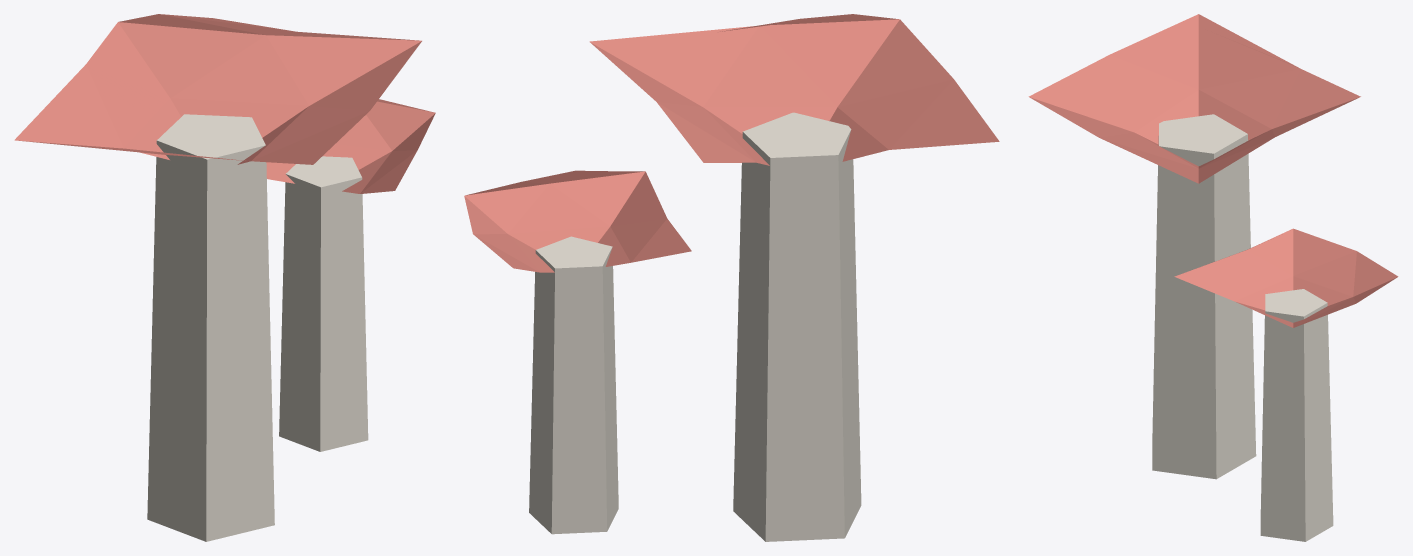
The model's file is mushroom_v20.glb.
The picture shows the model from 3 angles, left to right: view 1: azimuth 30°, elevation 25°; view 2: azimuth 150°, elevation 25°; view 3: azimuth 270°, elevation 25°; orthographic projection. The views are drawn at different scales.
Parts seen in each view (by area): view 1: lod0; view 2: lod0; view 3: lod0.
Boxes of the visible parts, box(x1,y1,x2,y2) form: lod0: box(14, 14, 435, 541); lod0: box(464, 14, 999, 541); lod0: box(1028, 14, 1398, 541).
Size of what is drawn, in the model's own units: 0.3433 by 0.3406 by 0.2707.
